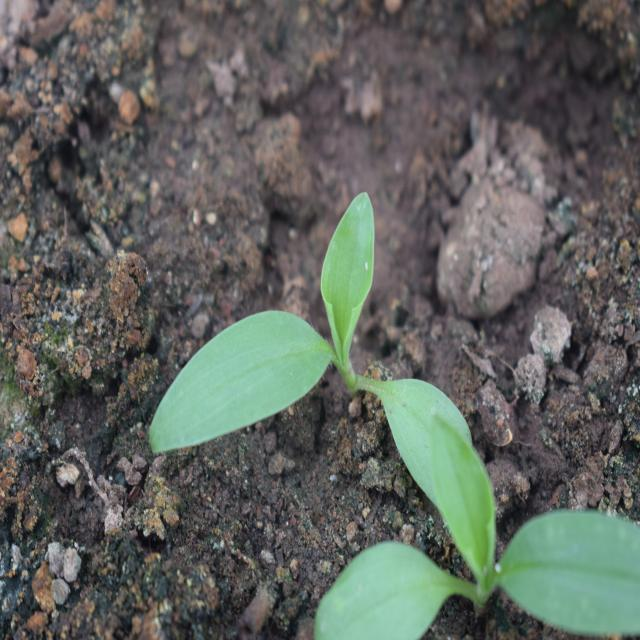Common Dayflower: (157, 205, 489, 508), (334, 418, 634, 635)
